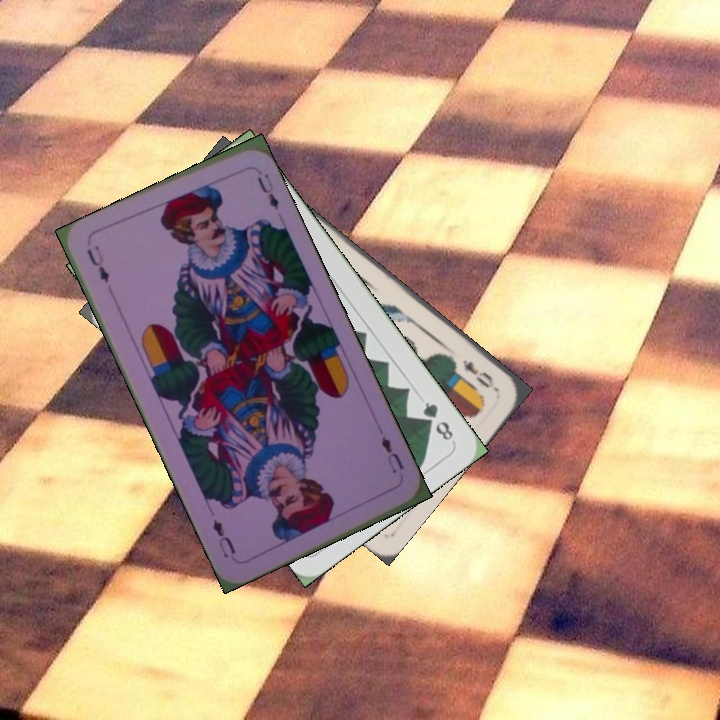EO: (458, 355, 499, 393)
EU: (82, 241, 112, 286), (377, 432, 407, 476)
G8: (418, 398, 456, 444)
